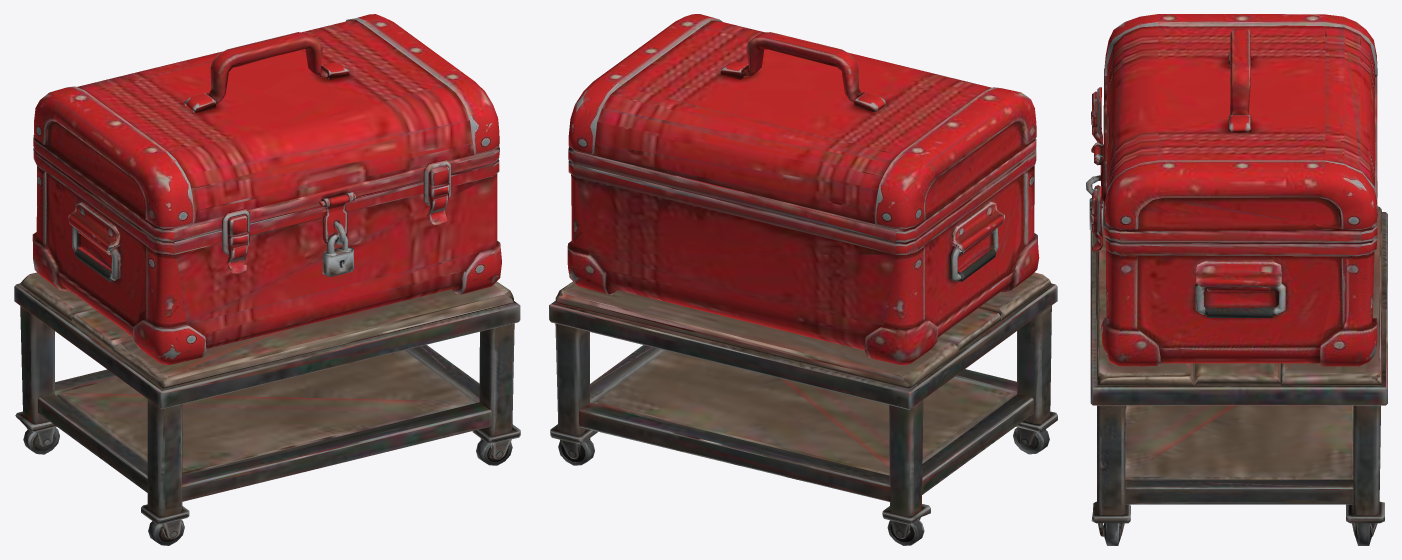
The model's file is toolbox.glb.
The picture shows the model from 3 angles, left to right: view 1: azimuth 30°, elevation 25°; view 2: azimuth 150°, elevation 25°; view 3: azimuth 270°, elevation 25°; orthographic projection.
Parts seen in each view (by area): view 1: toolbox; view 2: toolbox; view 3: toolbox.
Part boxes in pixels (x1,y1,x2,y2): toolbox: [14, 14, 520, 545]; toolbox: [549, 14, 1057, 545]; toolbox: [1086, 14, 1387, 545].
Size of the model in its own units: 0.7 by 0.76 by 0.5.
1 material, 1 textured.
